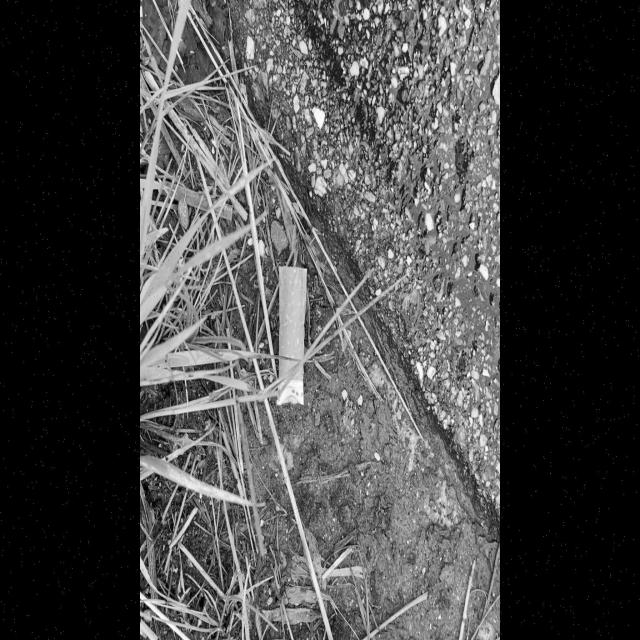other waste: (276, 265, 308, 407)
